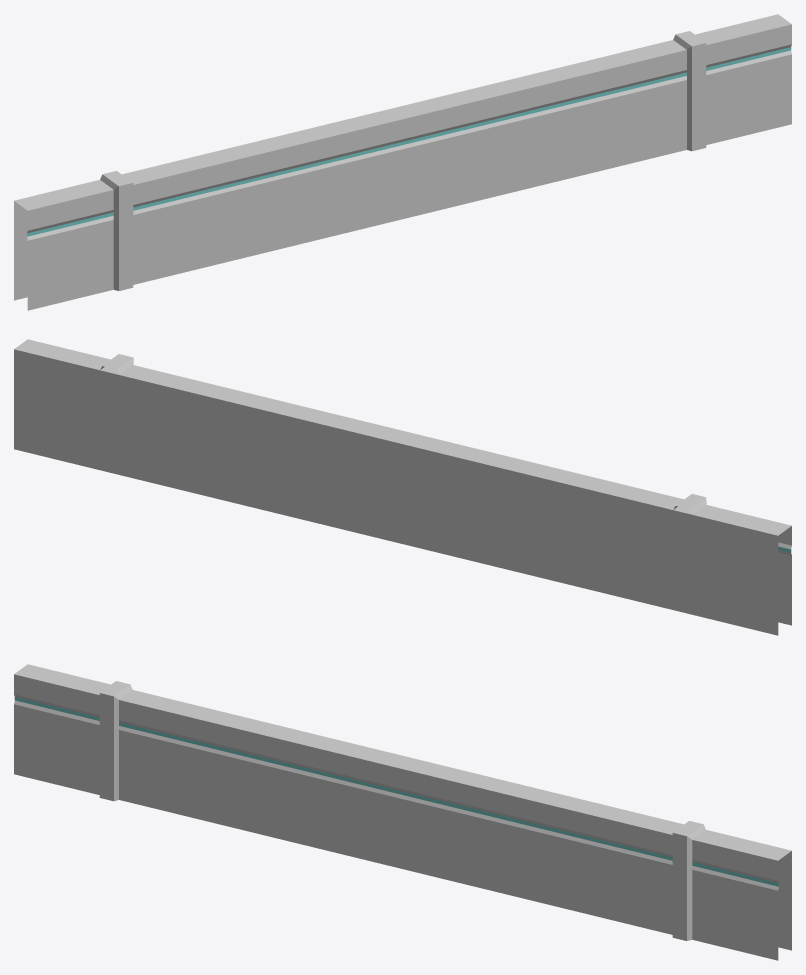
Rendered from Barrier.fbx.
The picture shows the model from 3 angles, top to bottom: view 1: azimuth 30°, elevation 25°; view 2: azimuth 150°, elevation 25°; view 3: azimuth 330°, elevation 25°; orthographic projection.
Visible parts, largest first — view 1: Barrier; view 2: Barrier; view 3: Barrier.
Part boxes in pixels (box(x1,y1,x2,y2)): Barrier: box(14, 14, 791, 310); Barrier: box(14, 339, 791, 635); Barrier: box(14, 664, 791, 960).
Size of the model in its own units: 8 by 1.05 by 0.3.
